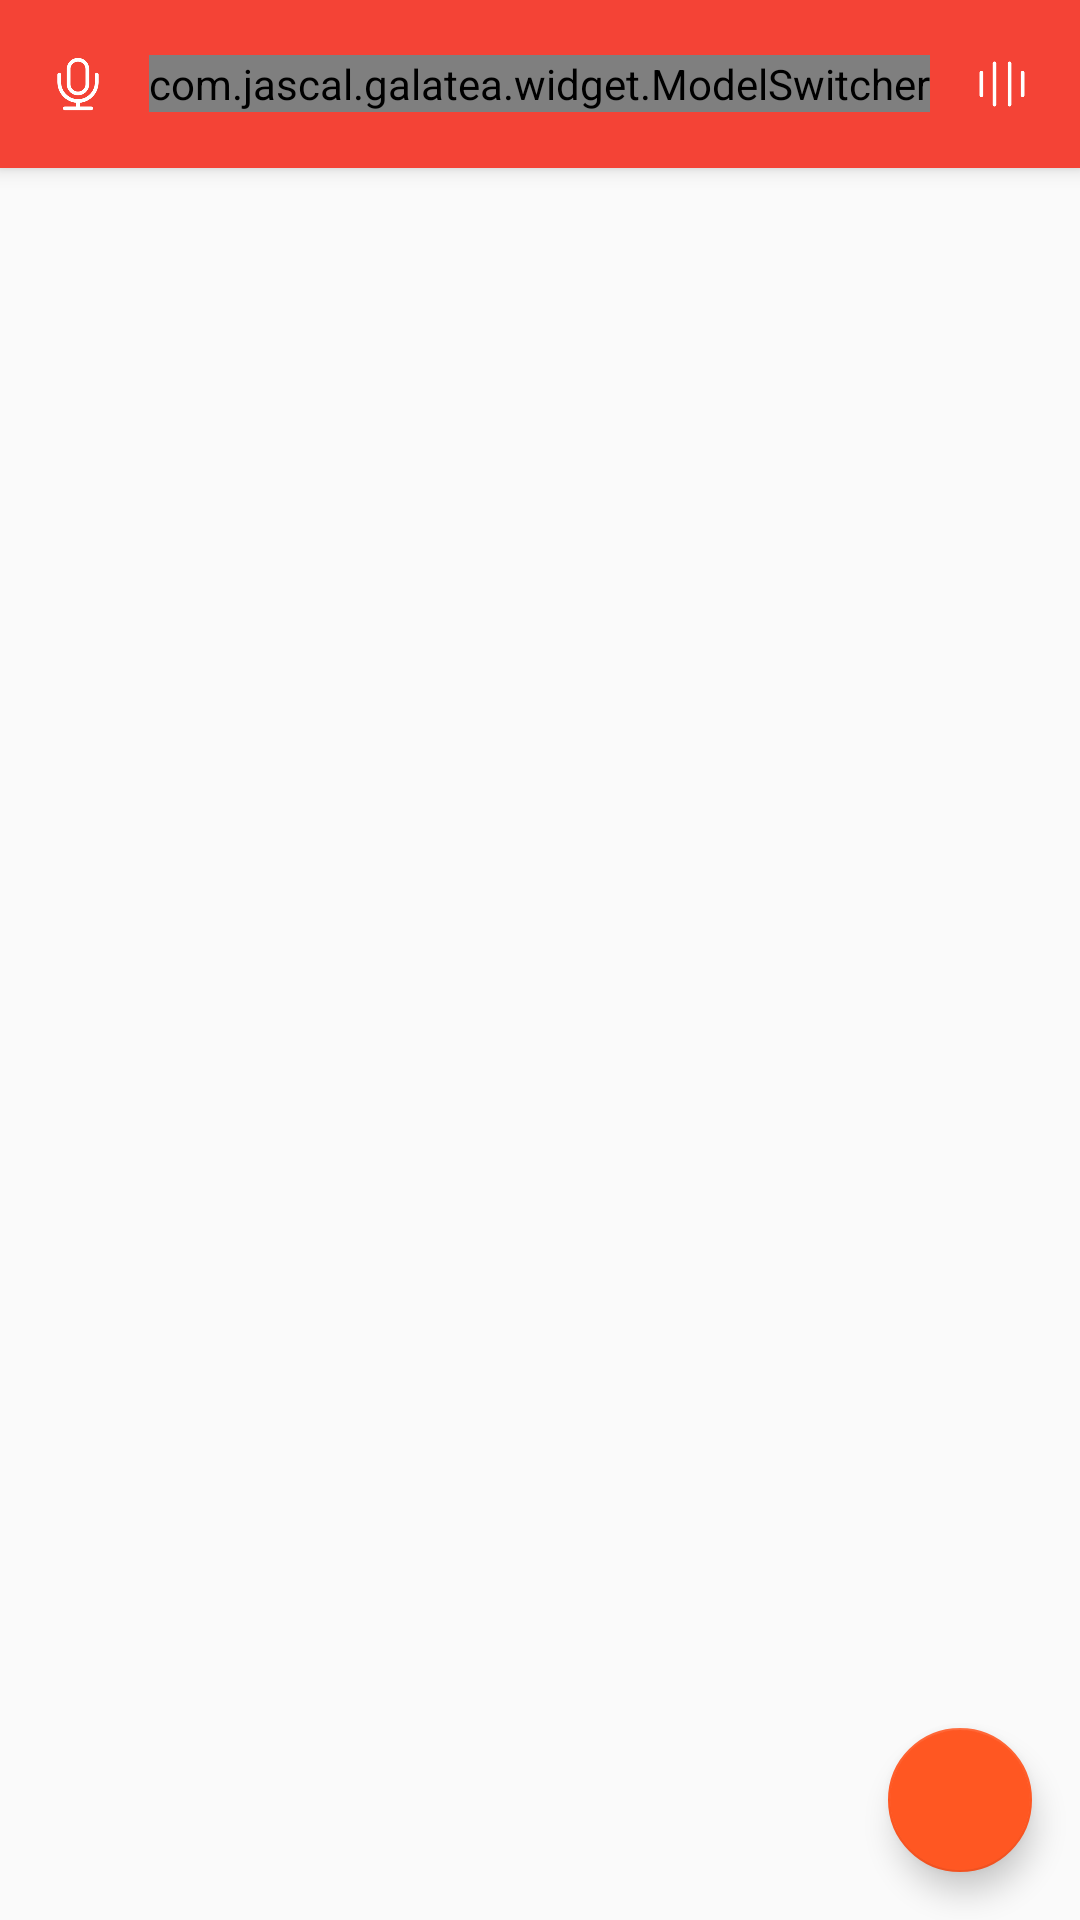

Named icons in this screenshot (1080x1920) and their centers, [x,y]:
record: [78,84]
